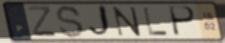J: (87, 4, 115, 39)
L: (142, 6, 170, 37)
N: (112, 6, 143, 38)
P: (168, 5, 198, 38)
S: (54, 4, 86, 40)
Z: (26, 5, 59, 38)
